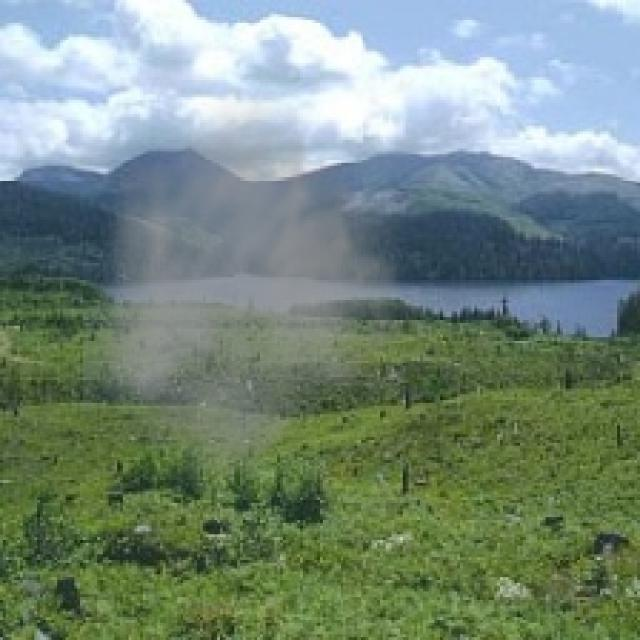Smoke: (82, 82, 438, 498)
